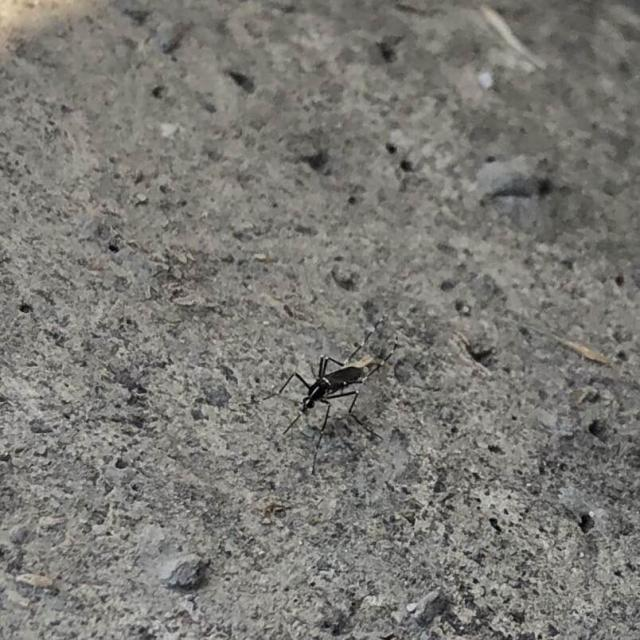albopictus: (249, 313, 417, 479)
